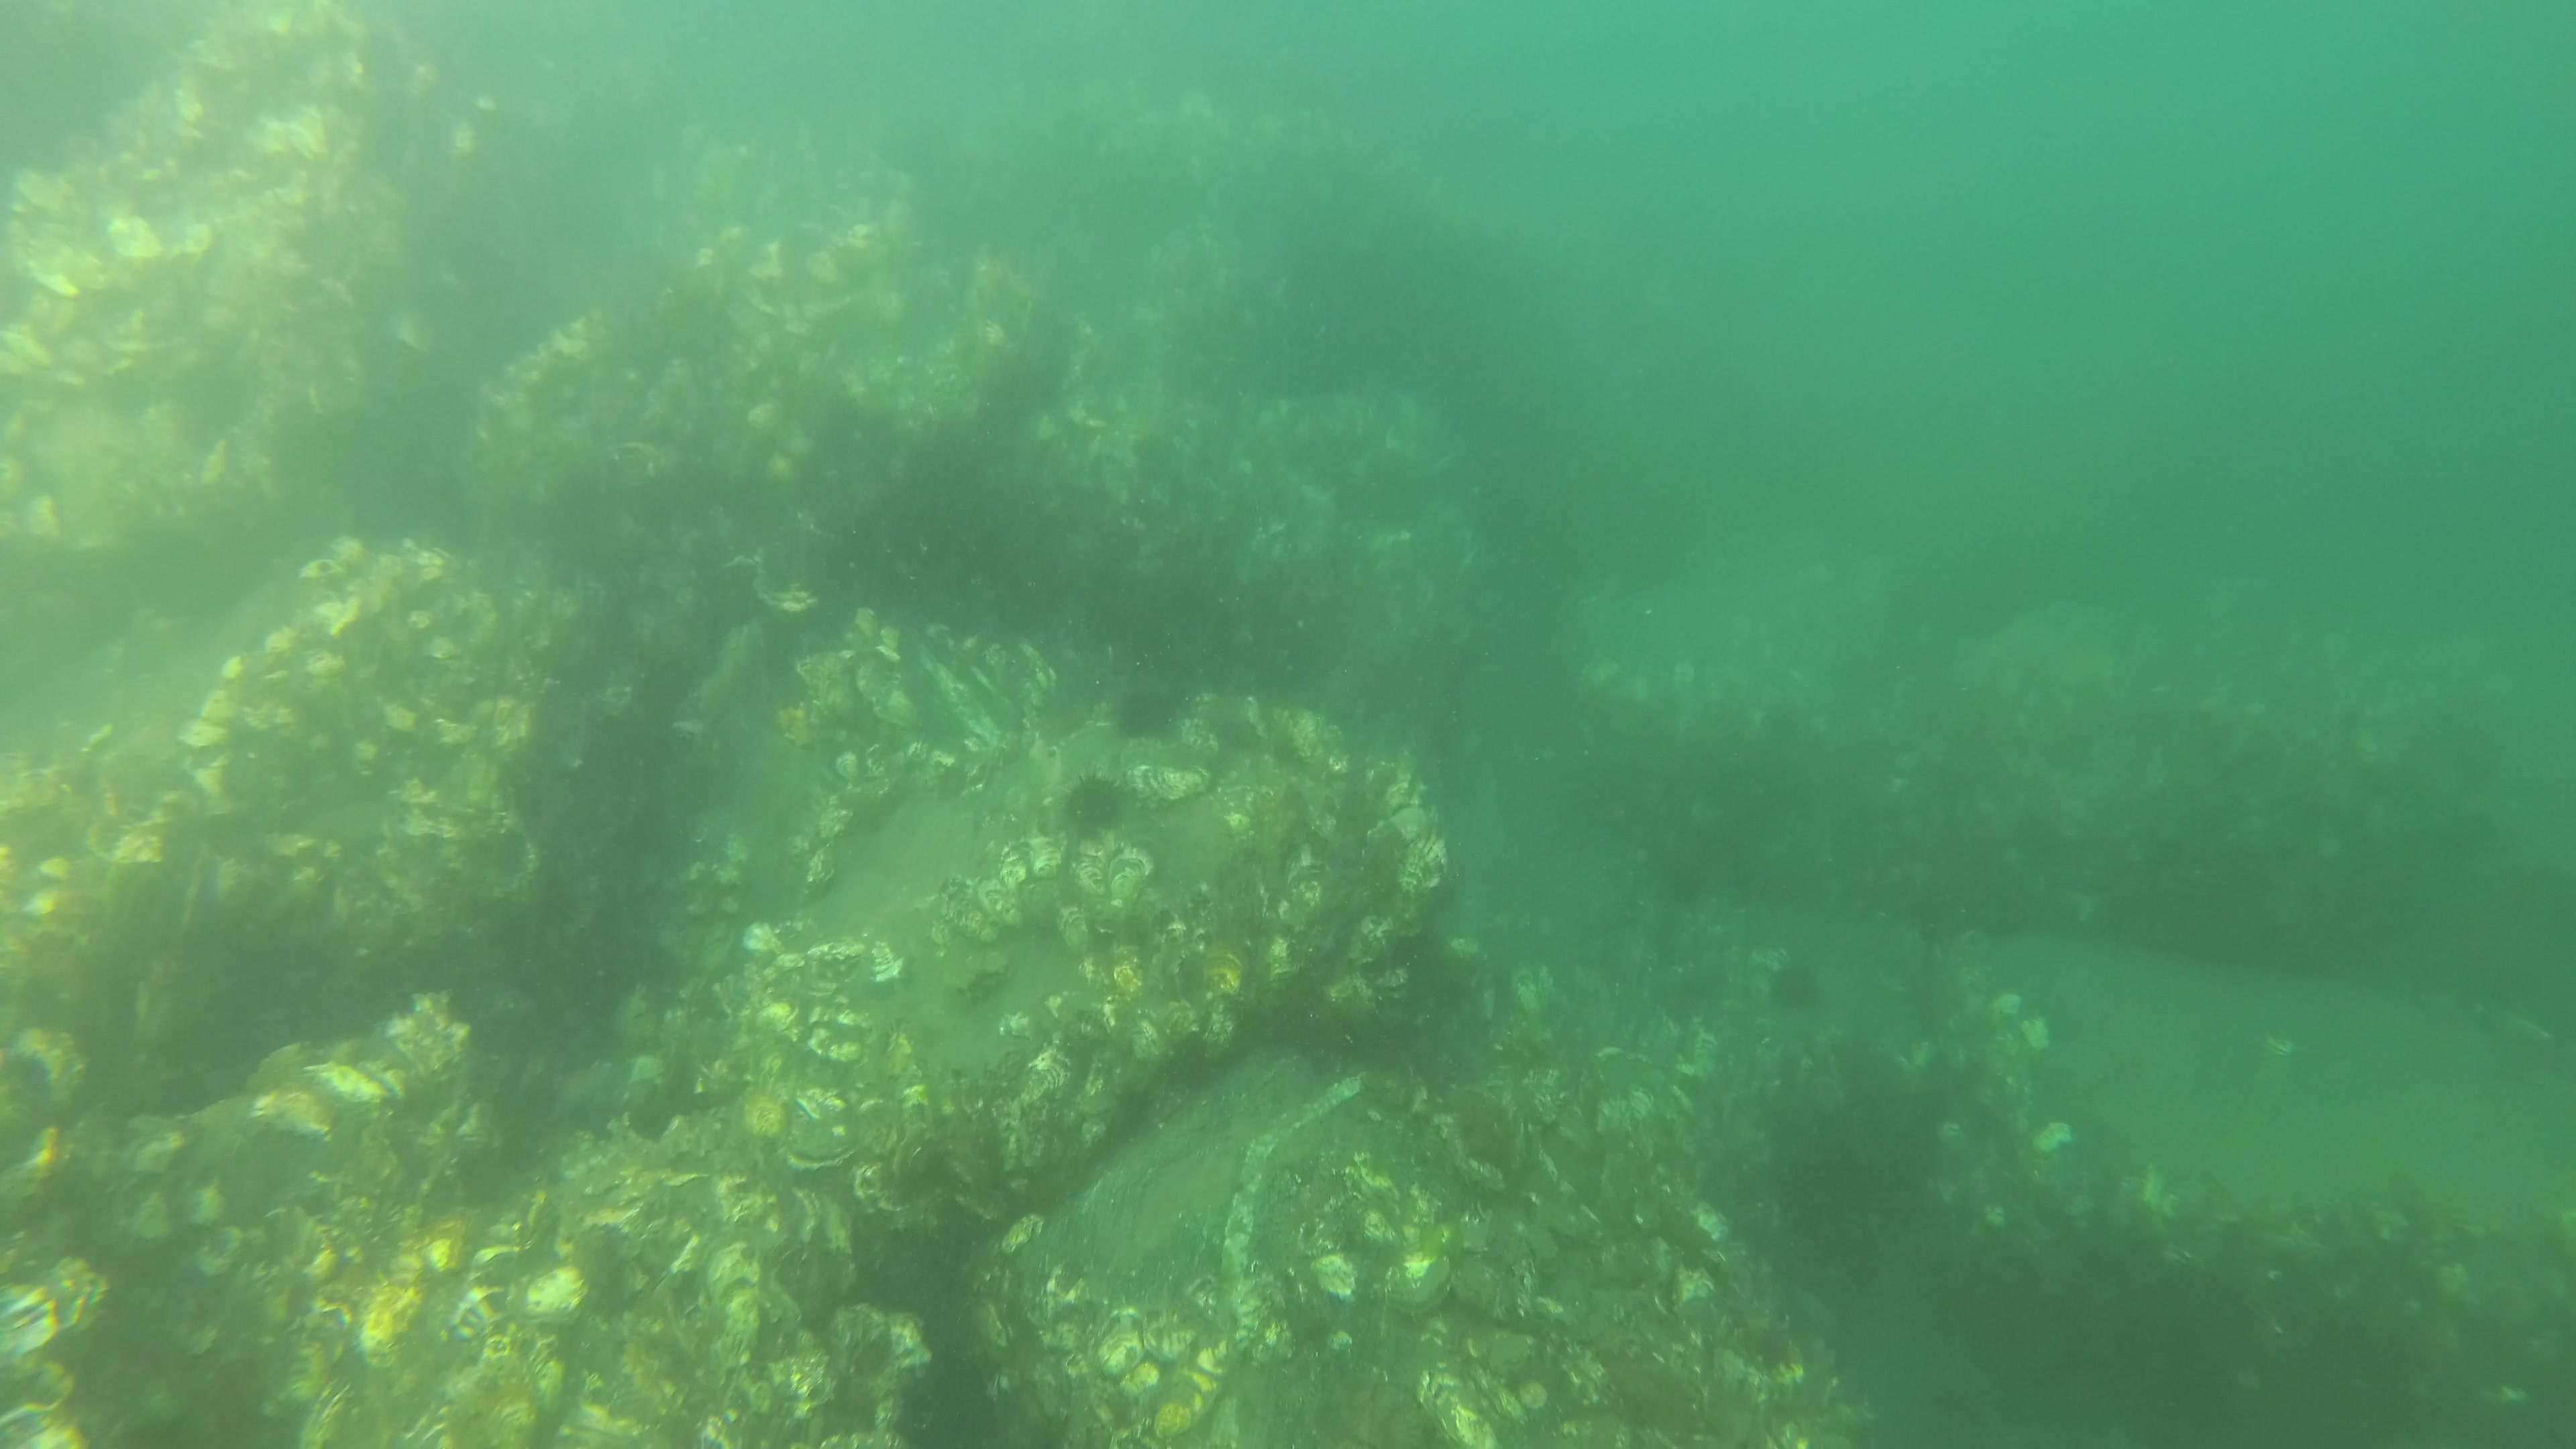echinus: (885, 1359, 1000, 1444), (1056, 771, 1127, 846), (1109, 686, 1178, 748), (1762, 957, 1821, 1014)
